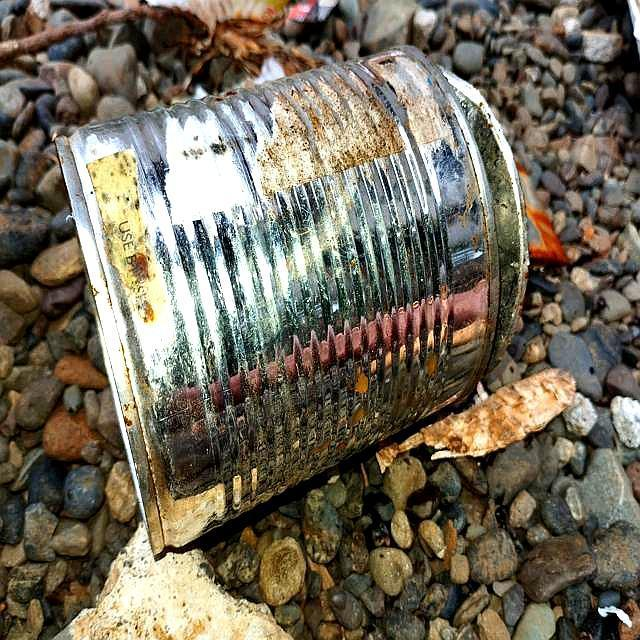Non-biodegradable: (53, 45, 533, 557)
